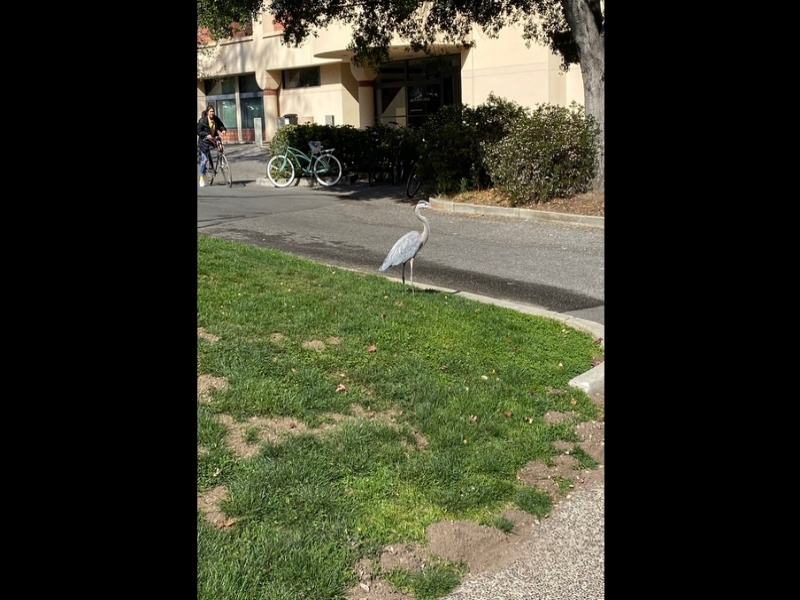heron: (375, 199, 436, 292)
